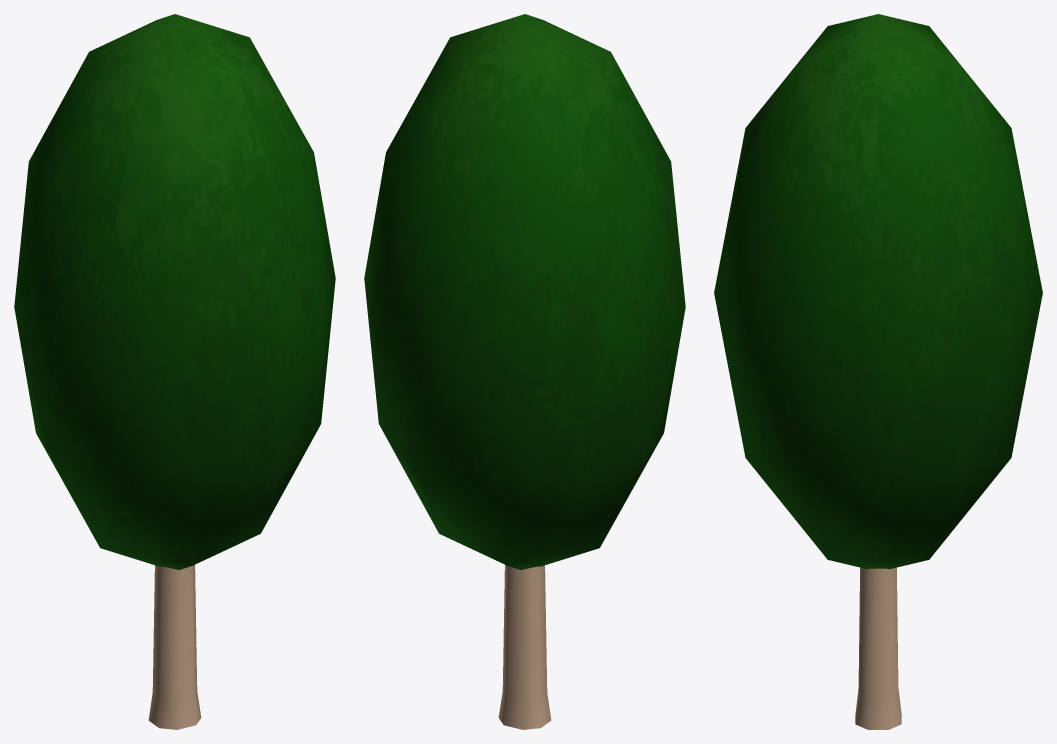
File: Tree_Cedar_2.fbx
3 views of the same model, side by side, from view 1: azimuth 30°, elevation 25°; view 2: azimuth 150°, elevation 25°; view 3: azimuth 270°, elevation 25° (orthographic).
Parts seen in each view (by area): view 1: Icosphere.037, Cube.085; view 2: Icosphere.037, Cube.085; view 3: Icosphere.037, Cube.085.
Boxes of the visible parts, box(x1,y1,x2,y2) form: Icosphere.037: box(14, 14, 335, 569); Cube.085: box(148, 565, 201, 729); Icosphere.037: box(364, 14, 685, 569); Cube.085: box(498, 565, 551, 729); Icosphere.037: box(714, 14, 1042, 569); Cube.085: box(855, 567, 901, 729).
Bounding box in the file's own units: 153 × 381 × 161.
